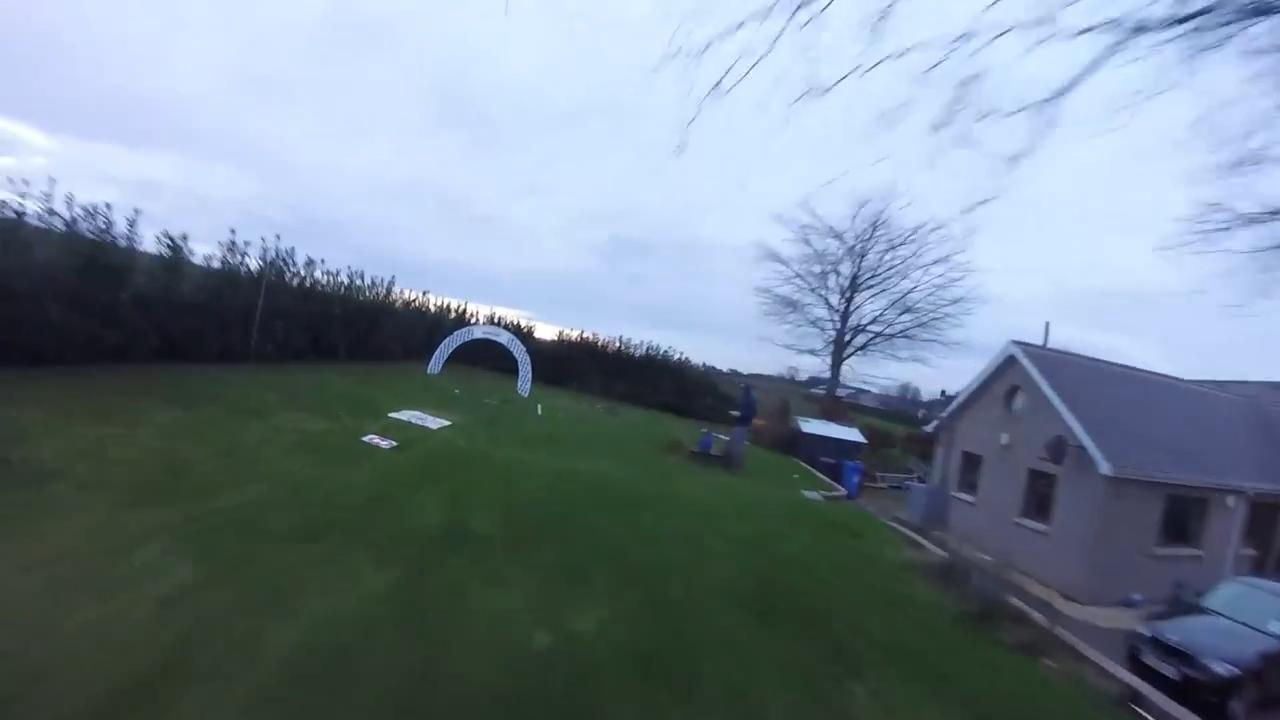gate: (426, 324, 537, 400)
